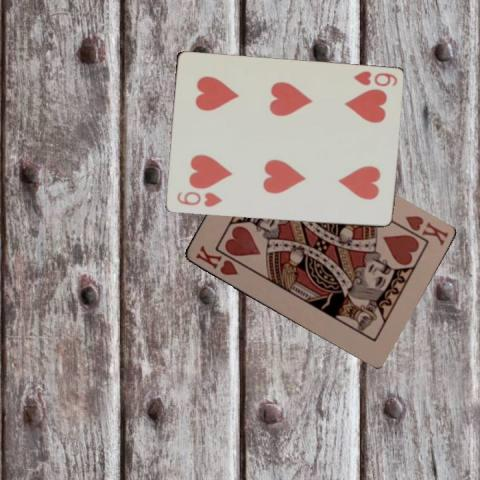6h: (173, 188, 223, 208), (350, 68, 399, 88)
Kh: (402, 212, 450, 248), (192, 243, 239, 277)
